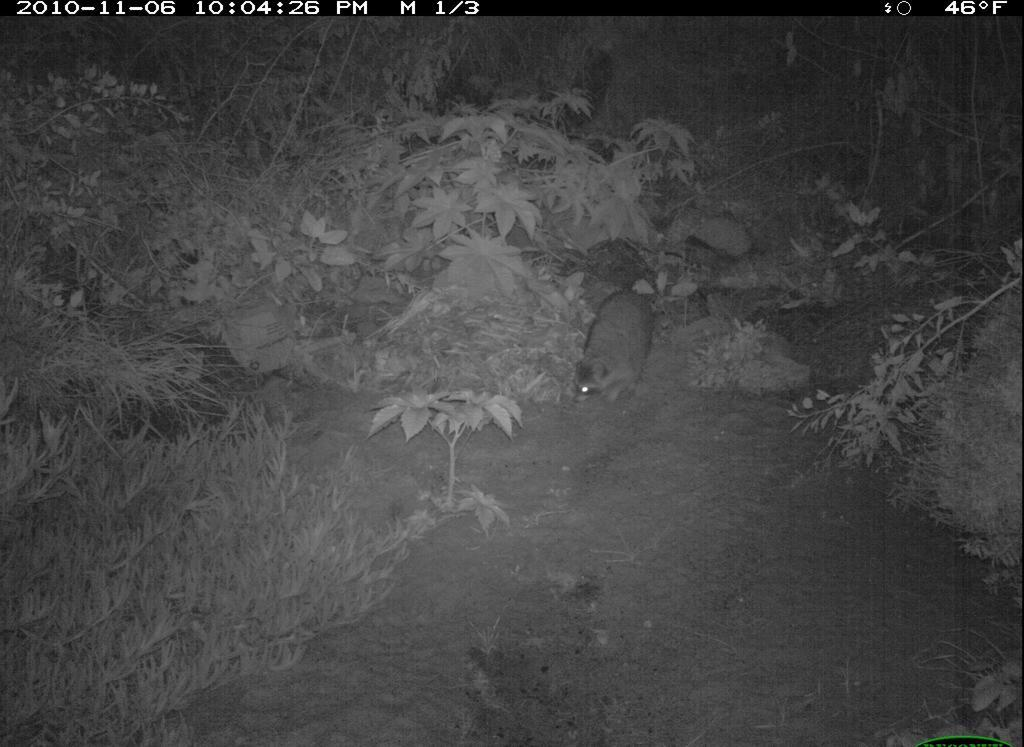raccoon: (564, 283, 665, 418)
